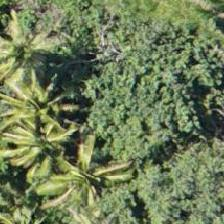coconut_tree: (32, 120, 122, 210), (0, 95, 82, 185), (0, 1, 71, 91)
